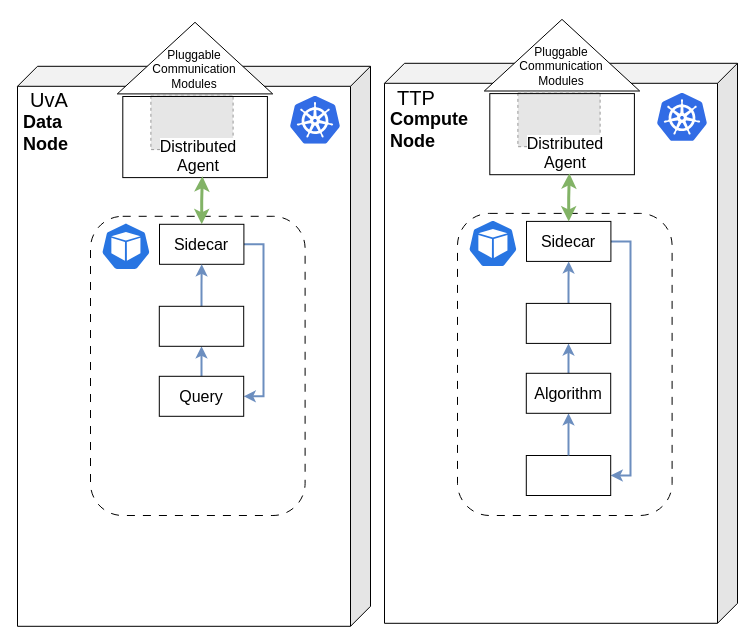
Image size: 755x644. Some labels were removed from this diagram. Grey dashed boxes stand in for pictures. Each missing label, with the centre of its shape:
"Aggregate" goes at point 568,475.
"Anonymize" goes at point 201,325.
"Graph" goes at point 568,322.
